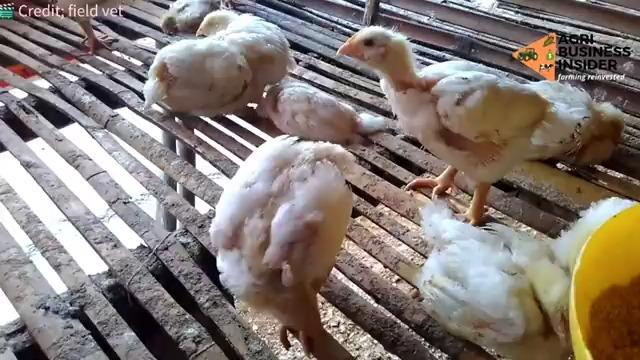AbNormal: (219, 136, 355, 347)
